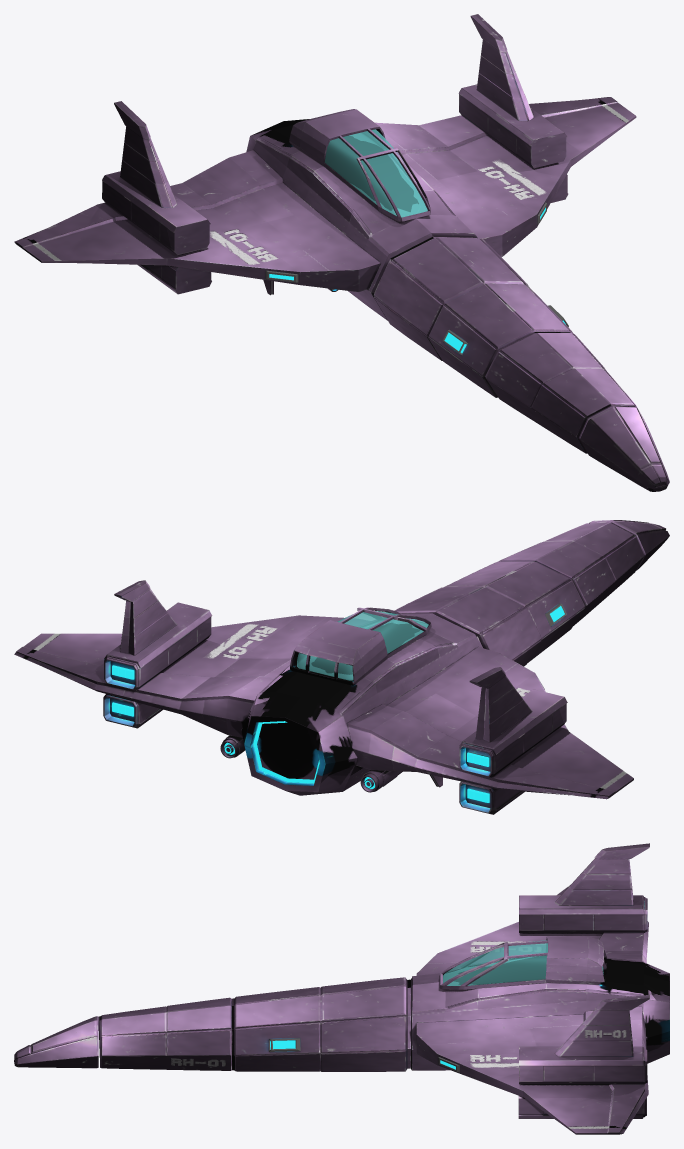
The model's file is rnch01.glb.
3 views of the same model, one above another, from view 1: azimuth 30°, elevation 25°; view 2: azimuth 150°, elevation 25°; view 3: azimuth 270°, elevation 25° (orthographic). The views are drawn at different scales.
Visible parts, largest first — view 1: Cylinder.002, Plane.006; view 2: Cylinder.002, Plane.006; view 3: Cylinder.002, Plane.006.
Part boxes in pixels (x1,y1,x2,y2): Cylinder.002: [14, 14, 669, 491]; Plane.006: [325, 129, 427, 217]; Cylinder.002: [14, 520, 669, 814]; Plane.006: [297, 611, 428, 680]; Cylinder.002: [14, 843, 669, 1134]; Plane.006: [443, 940, 603, 985].
Size of the model in its own units: 4.11 by 1.13 by 4.51.
Materials: 6 (1 with a texture image).
